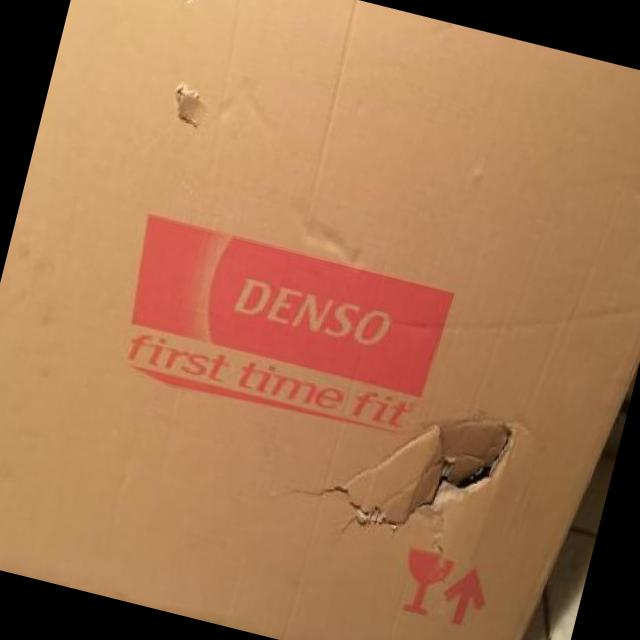box: (1, 1, 640, 640)
crushed: (176, 80, 200, 133)
tear: (293, 410, 515, 531)
